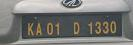0: (108, 19, 116, 33), (45, 21, 53, 34)
1: (53, 21, 61, 35), (86, 20, 93, 34)
3: (93, 20, 101, 34), (101, 19, 108, 34)
A: (34, 23, 42, 36)
D: (72, 20, 80, 34)
K: (26, 22, 34, 36)
